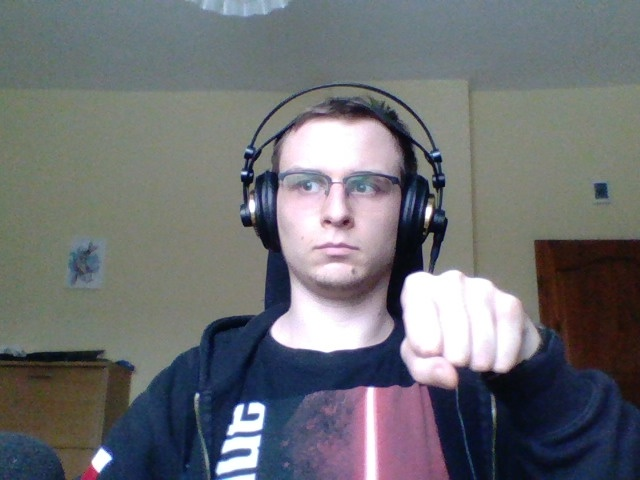yes: (391, 257, 544, 397)
